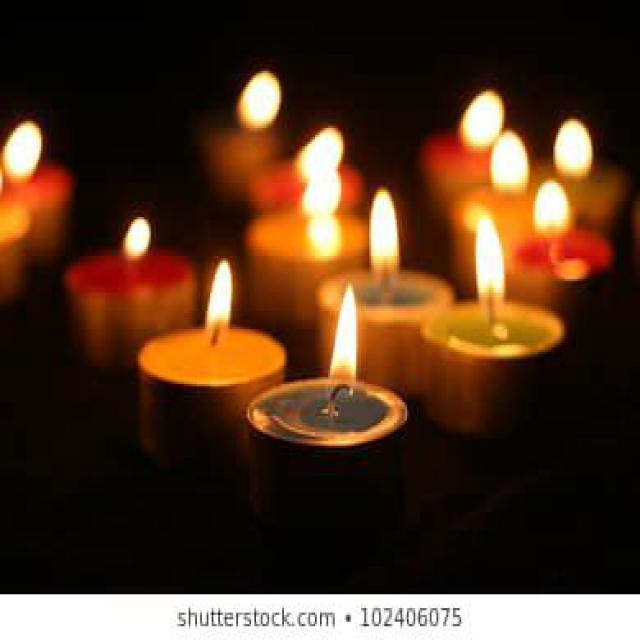Fire: (328, 284, 358, 402), (370, 188, 400, 296), (475, 211, 506, 312), (205, 258, 232, 336)
